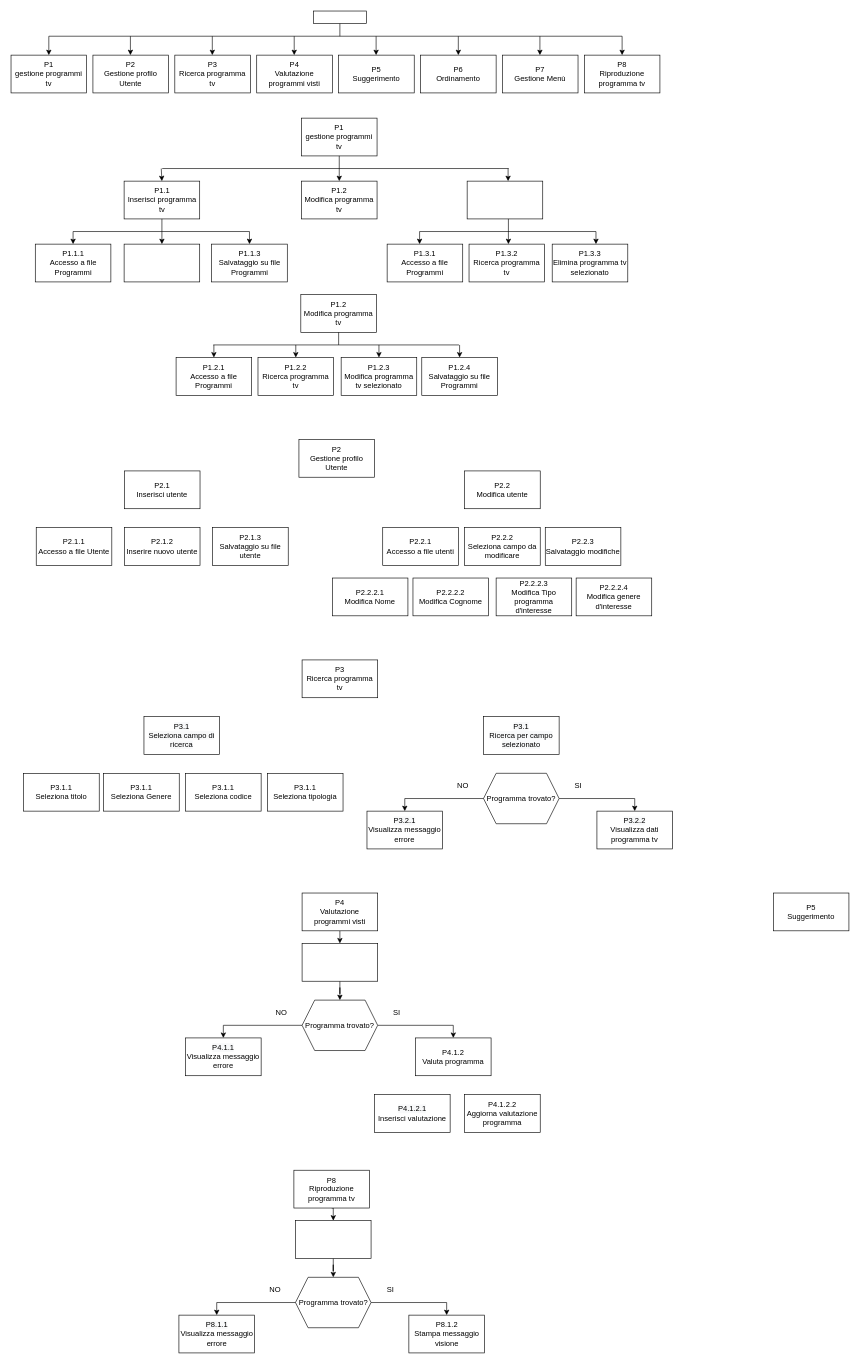
Image size: 860x1364. Some labels were removed from this diagram. The shapes that lost their labels are listed below. From the top down, each one's centre as x and y in pixels, then its label:
the point at 339,17: Smart Tv
the point at 505,199: P1.3 Elimina programma tv
the point at 161,262: P1.1.2 Inserire nuovo programma
the point at 339,962: P4.1 Ricerca programma tv
the point at 333,1239: P8.1 Ricerca programma tv
